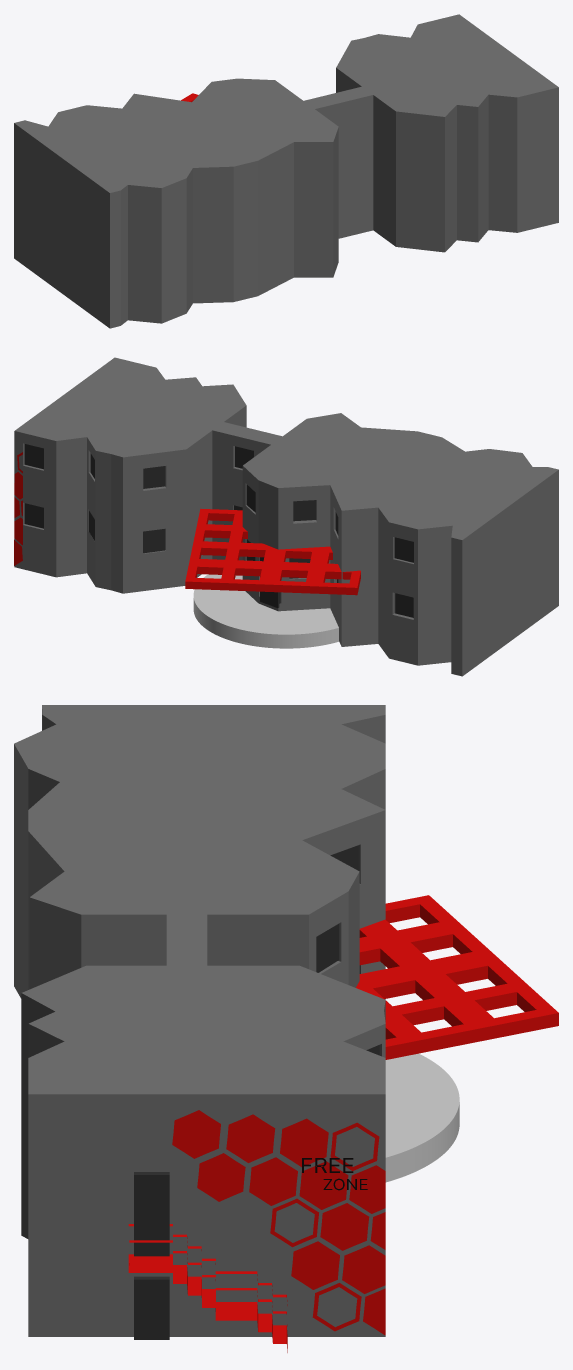
The picture shows the model from 3 angles, top to bottom: view 1: azimuth 30°, elevation 25°; view 2: azimuth 150°, elevation 25°; view 3: azimuth 270°, elevation 25°; orthographic projection. The views are drawn at different scales.
Parts seen in each view (by area): view 1: Plane001; view 2: Plane001; view 3: Plane001.
Part boxes in pixels (x1,y1,x2,y2): Plane001: [14, 14, 558, 328]; Plane001: [14, 357, 558, 676]; Plane001: [14, 705, 558, 1352].
Size of the model in its own units: 18.11 by 5.04 by 10.2.
